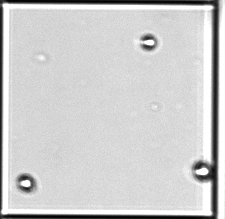Living Cell: (192, 157, 213, 182), (16, 172, 35, 192), (140, 32, 158, 52)
